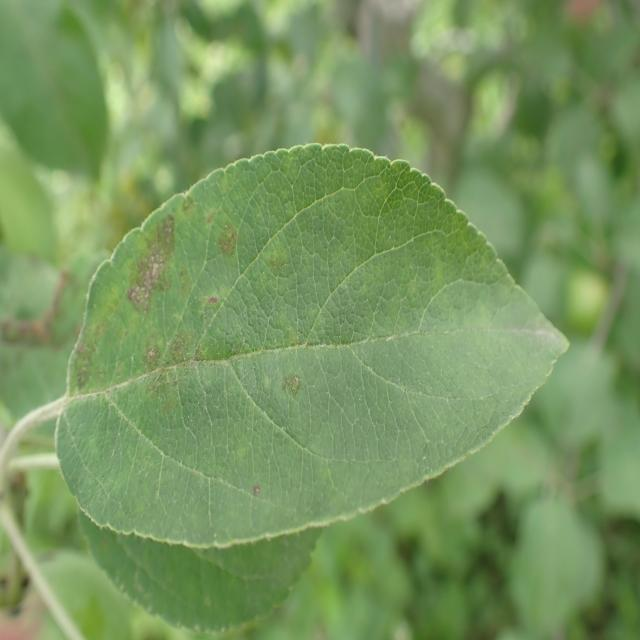scab: (64, 178, 538, 448), (245, 472, 276, 505)
